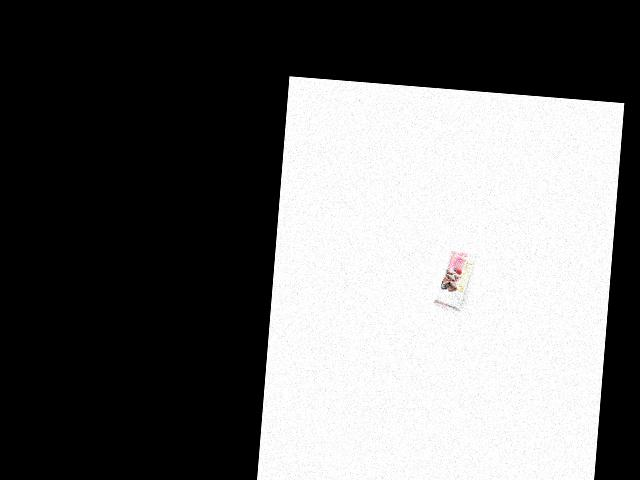chocolate: (431, 249, 478, 311)
